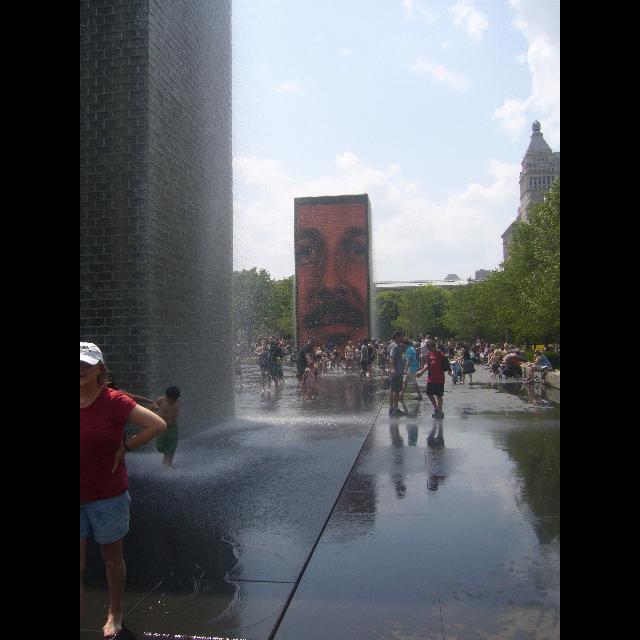head: (80, 342, 104, 386), (166, 386, 180, 404), (394, 331, 404, 344), (401, 337, 411, 348), (427, 342, 437, 352), (310, 336, 316, 346), (262, 340, 268, 348), (308, 361, 314, 369), (362, 339, 370, 345), (458, 343, 464, 351), (535, 349, 541, 357), (238, 352, 244, 358), (269, 336, 275, 342), (494, 350, 500, 356), (520, 350, 526, 356), (504, 345, 510, 351), (508, 344, 514, 350), (319, 342, 323, 348), (380, 353, 386, 357), (420, 334, 426, 338), (426, 334, 430, 340), (435, 336, 439, 342), (452, 360, 456, 366), (454, 357, 458, 363), (273, 354, 277, 358), (323, 353, 327, 357), (335, 346, 339, 350), (349, 342, 353, 346), (359, 340, 363, 344), (364, 340, 368, 344), (372, 340, 376, 344), (378, 340, 382, 344), (388, 342, 392, 346), (294, 350, 298, 354), (276, 342, 280, 346), (401, 343, 404, 347), (356, 346, 359, 349), (333, 352, 335, 356), (378, 353, 380, 357), (440, 338, 442, 342), (441, 350, 445, 352), (457, 342, 459, 346), (464, 339, 466, 343), (500, 339, 502, 343), (282, 338, 284, 342), (328, 340, 330, 342), (413, 339, 415, 341)
person: (414, 338, 456, 419), (145, 384, 183, 472), (396, 336, 424, 402), (386, 328, 406, 416), (296, 335, 318, 401), (260, 334, 280, 394), (523, 349, 553, 385), (254, 338, 272, 396), (457, 340, 477, 386), (503, 349, 527, 381), (302, 360, 320, 402), (414, 332, 430, 378), (344, 339, 361, 375), (358, 338, 370, 380), (232, 351, 244, 392), (446, 356, 464, 382), (363, 341, 377, 374), (380, 341, 394, 373), (486, 349, 500, 379), (332, 344, 346, 372), (368, 338, 380, 370), (448, 360, 462, 386), (273, 353, 285, 383), (502, 342, 511, 380), (314, 342, 324, 376), (506, 344, 518, 371), (423, 334, 432, 368), (375, 340, 385, 370), (274, 340, 284, 368), (318, 352, 329, 376), (377, 352, 387, 378), (436, 336, 446, 362), (433, 336, 441, 366), (498, 338, 506, 368), (278, 337, 286, 365), (357, 338, 365, 364), (436, 348, 446, 368), (462, 338, 470, 362), (375, 351, 383, 371), (290, 350, 300, 366), (329, 351, 336, 373), (438, 338, 446, 357), (326, 339, 334, 357), (354, 346, 362, 364), (399, 342, 406, 356), (412, 338, 416, 354), (456, 342, 460, 356)
